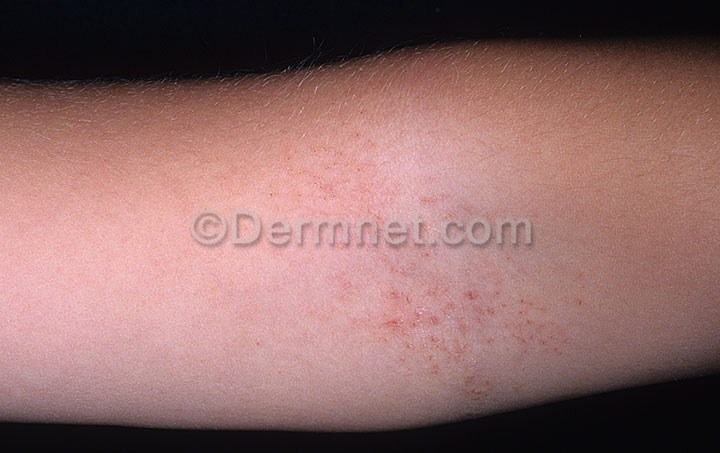Eczema: (206, 107, 622, 403)
